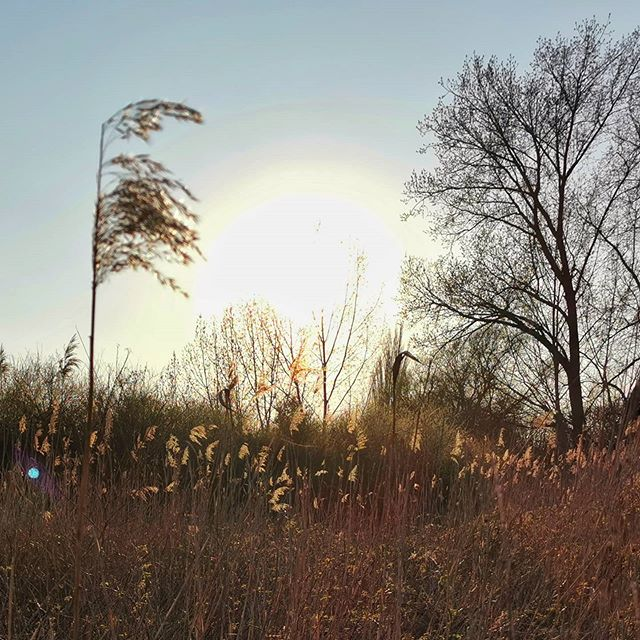sky: (24, 1, 624, 358)
tree: (432, 40, 640, 457)
vegetation: (1, 385, 640, 640)
